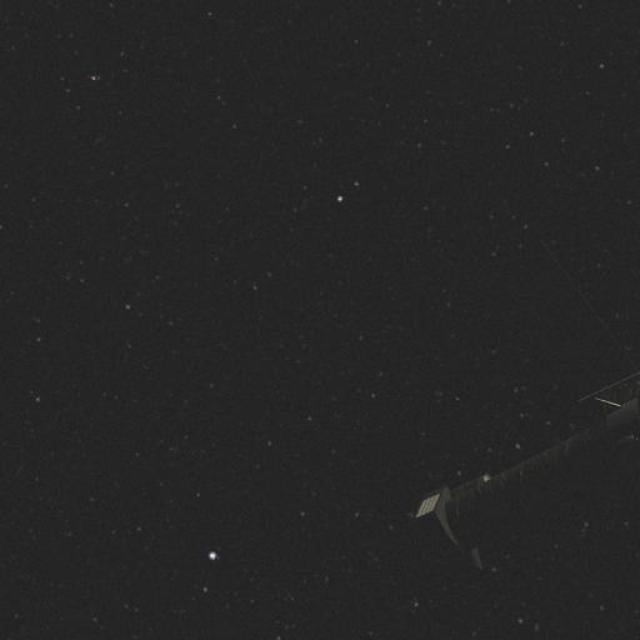xmm_newton: (428, 388, 640, 567)
